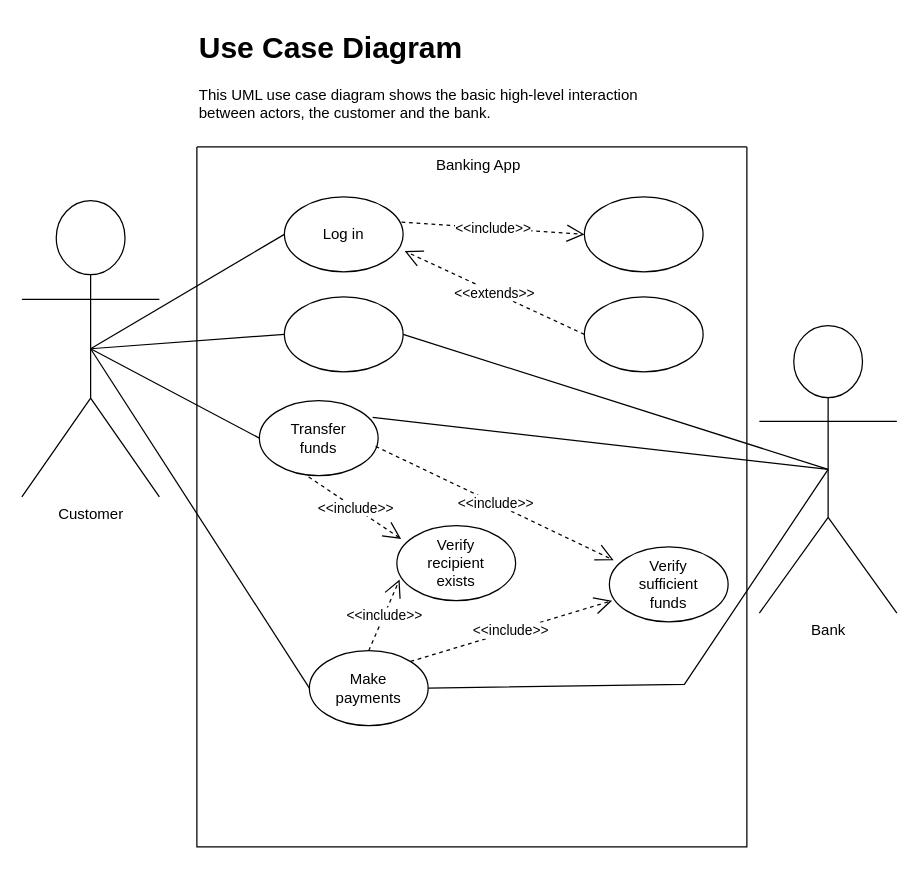
Some shapes in this 919 by 869 pixel diagram are drawn without their labels. Here are the shapes that lost their labels. From the top down, the box of each, then its label:
(583, 196, 703, 272): Verify password
(283, 296, 403, 372): Check balance
(583, 296, 703, 372): Display login error
